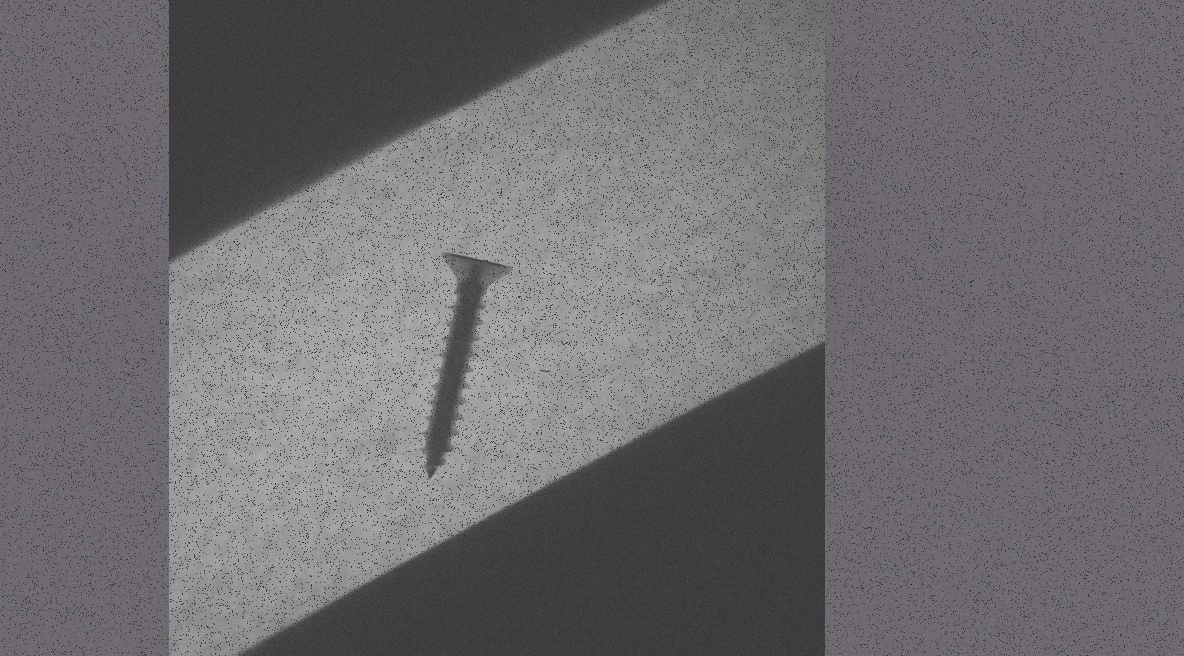S001: (387, 237, 532, 491)
